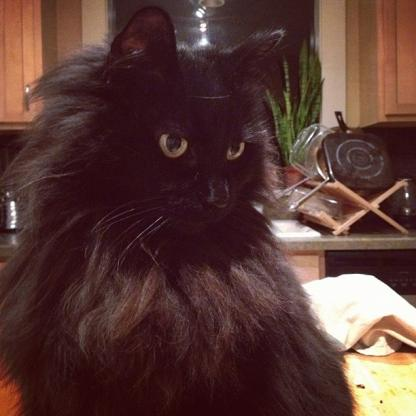Target: (1, 2, 364, 416)
